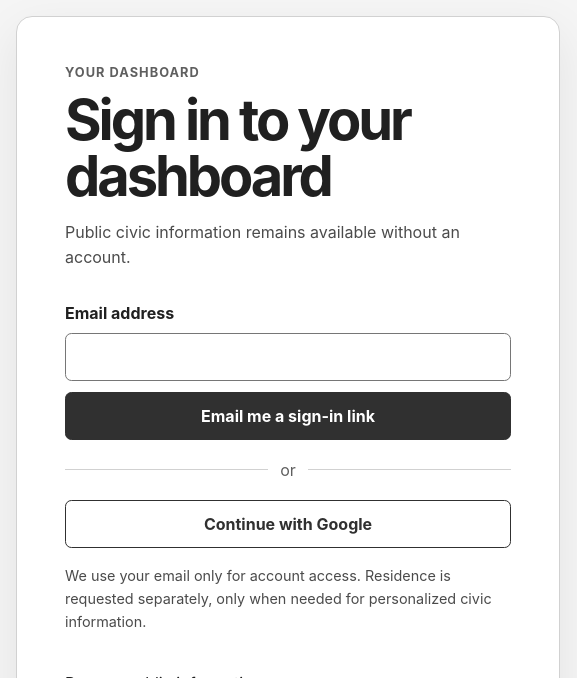
Test case: public identity shell › offers a retry if Google navigation does not leave the page
Click the button "Continue with Google": (288, 524) [65,500,511,548]
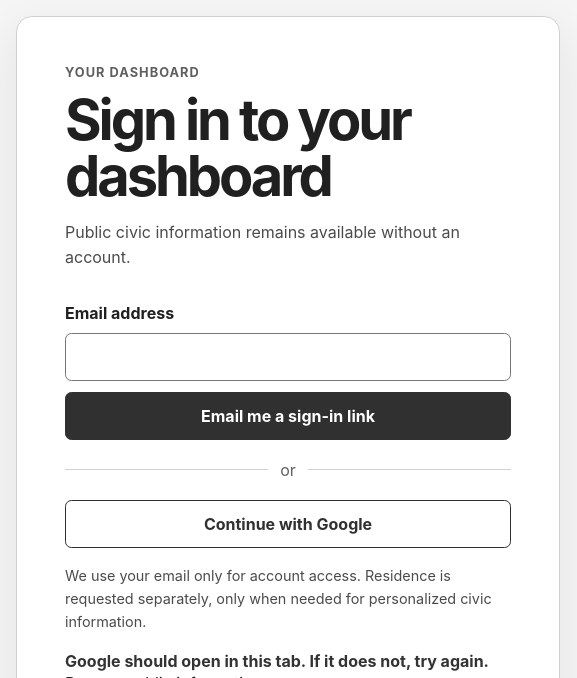
expect the text "Google should open in this tab. If it does not, try again." is shown: met, box [65,649,511,673]
